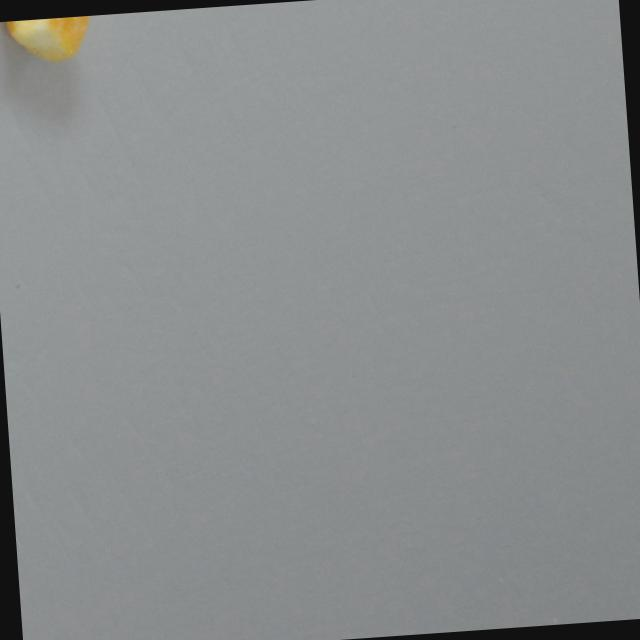pelicula: (0, 15, 96, 69)
